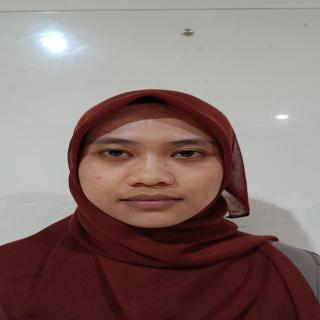Netral: (68, 100, 236, 236)
